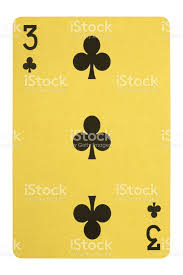three of clubs: (13, 19, 169, 258)
